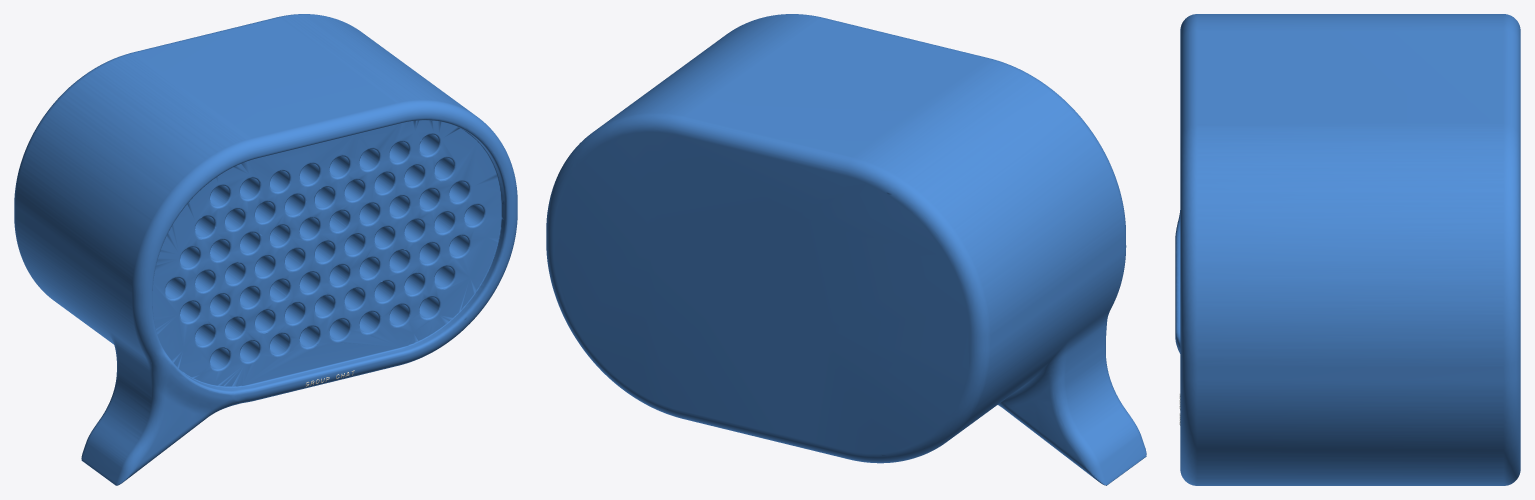
Rendered from group-chat.glb.
The picture shows the model from 3 angles, left to right: view 1: azimuth 30°, elevation 25°; view 2: azimuth 150°, elevation 25°; view 3: azimuth 270°, elevation 25°; orthographic projection. The views are drawn at different scales.
Parts seen in each view (by area): view 1: gc-body; view 2: gc-body; view 3: gc-body.
Part boxes in pixels (bbox=[...]): gc-body: bbox=[14, 14, 517, 485]; gc-body: bbox=[546, 14, 1146, 485]; gc-body: bbox=[1175, 14, 1520, 485].
Bounding box in the file's own units: 0.1799 × 0.1339 × 0.1015.
